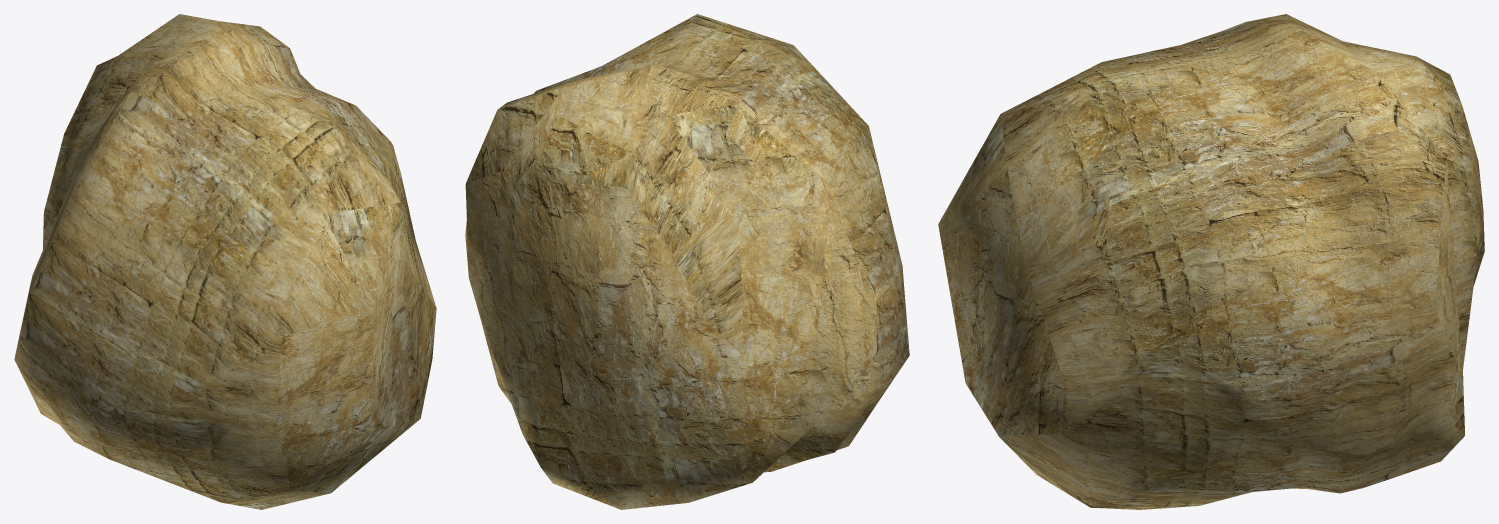
The model's file is Boulder9.dae.
The picture shows the model from 3 angles, left to right: view 1: azimuth 30°, elevation 25°; view 2: azimuth 150°, elevation 25°; view 3: azimuth 270°, elevation 25°; orthographic projection. The views are drawn at different scales.
Visible parts, largest first — view 1: rock0; view 2: rock0; view 3: rock0.
Boxes of the visible parts, x1,y1,x2,y2 form: rock0: [14, 14, 436, 509]; rock0: [465, 14, 909, 509]; rock0: [938, 14, 1484, 509].
Size of the model in its own units: 1.33 by 1.48 by 1.45.
